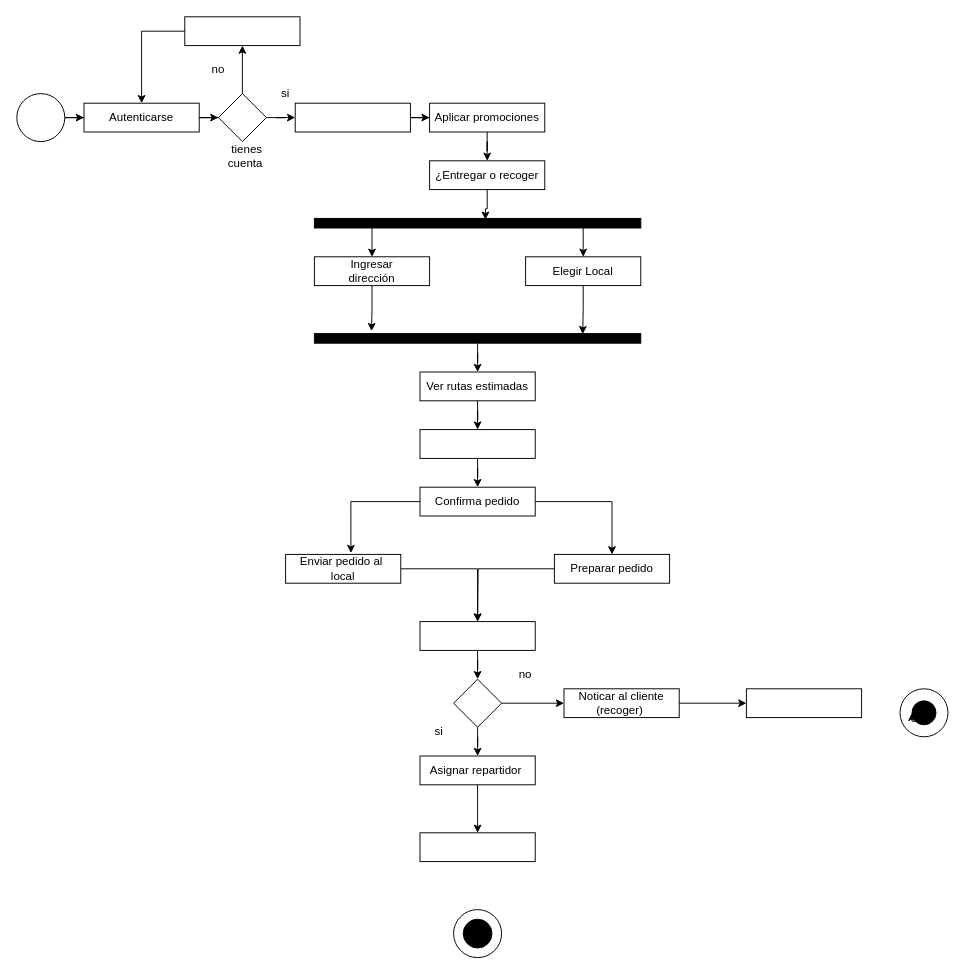
Some shapes in this 965 by 974 pixel diagram are drawn without their labels. The centre of each missing label's shape, as x and y in pixels:
crear cuenta: [242,31]
Elegir productos: [352,117]
Entrega disponible: [477,635]
seleccionar metdo de pago: [477,443]
señal: pedido en camino: [477,847]
Señal: pedido listo: [803,703]
